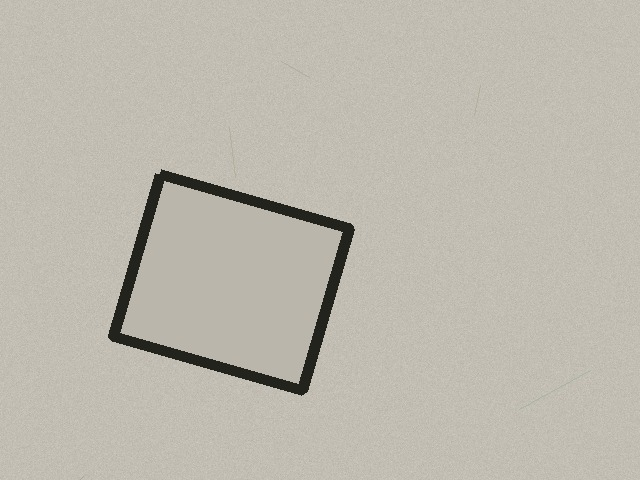parking_area: (113, 174, 349, 390)
